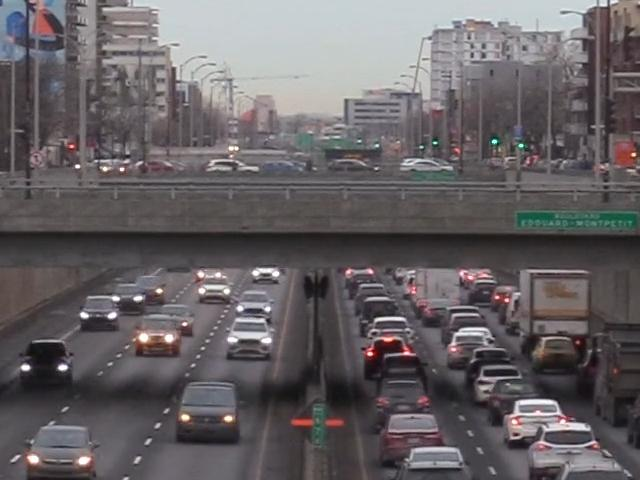car: (529, 420, 609, 475), (180, 380, 248, 444), (25, 424, 101, 480), (19, 339, 79, 390), (393, 443, 477, 479), (376, 408, 441, 454), (369, 374, 429, 422), (376, 457, 479, 480), (375, 352, 431, 394), (509, 399, 571, 435), (135, 318, 184, 362), (225, 314, 270, 361), (544, 459, 636, 480), (531, 332, 582, 368), (80, 294, 124, 332), (490, 378, 535, 415), (364, 337, 411, 372), (476, 364, 520, 399), (440, 305, 485, 337), (469, 350, 511, 381), (156, 301, 194, 334), (365, 314, 408, 341), (114, 282, 150, 313), (235, 289, 272, 318), (133, 275, 171, 303), (198, 274, 232, 305), (450, 335, 487, 362), (356, 299, 392, 324), (626, 393, 640, 443)
truck: (512, 272, 592, 353), (583, 323, 640, 420), (414, 272, 463, 322)
